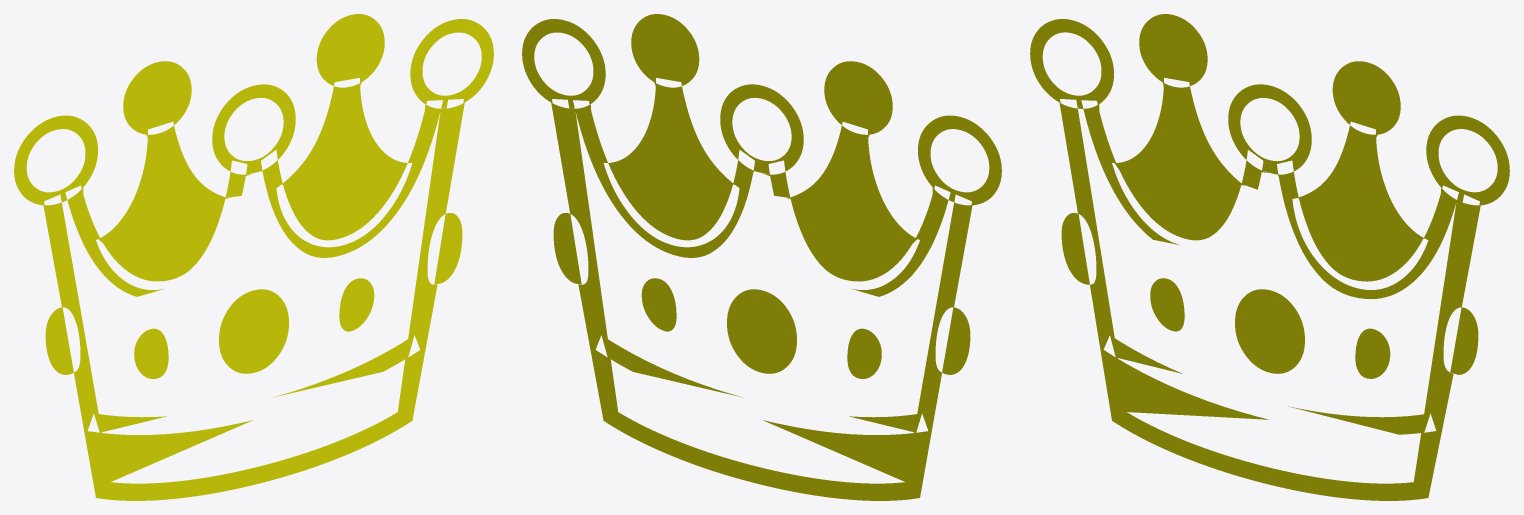
File: crown_model.glb
The picture shows the model from 3 angles, left to right: view 1: azimuth 30°, elevation 25°; view 2: azimuth 150°, elevation 25°; view 3: azimuth 330°, elevation 25°; orthographic projection.
Parts seen in each view (by area): view 1: Text.950_950; view 2: Text.950_950; view 3: Text.950_950.
Boxes of the visible parts, left/top/right/bottom form: Text.950_950: left=14, top=14, right=493, bottom=500; Text.950_950: left=522, top=14, right=1001, bottom=500; Text.950_950: left=1030, top=14, right=1509, bottom=500.
Bounding box in the file's own units: 1.14 × 1.02 × 3.6e-06.
